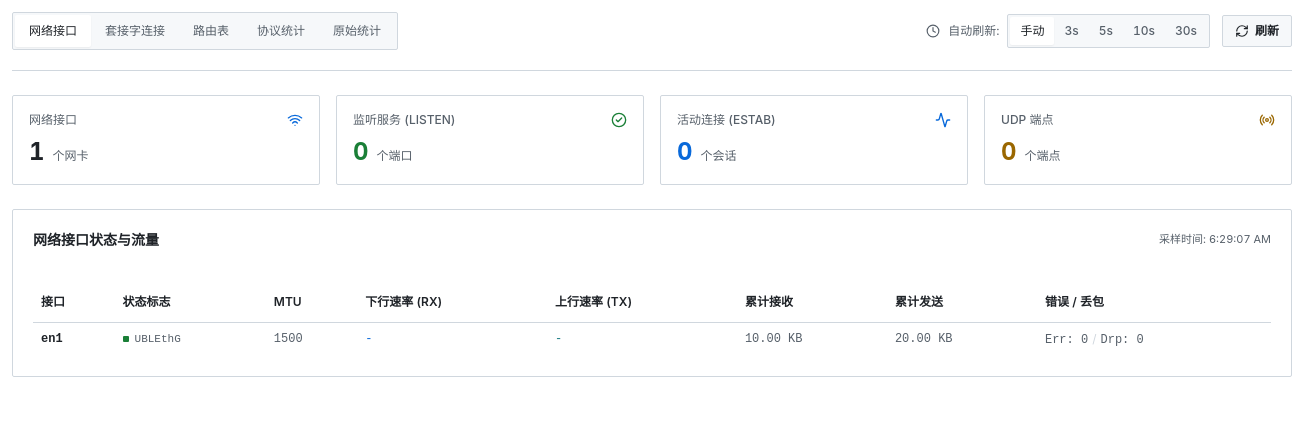
Test case: NetworkView Component › navigates and filters sockets when clicking summary cards
This screenshot has width=1304, height=444.
Click the button "活动连接 (ESTAB) 0 个会话" at (726, 120), box [660,95,968,185]
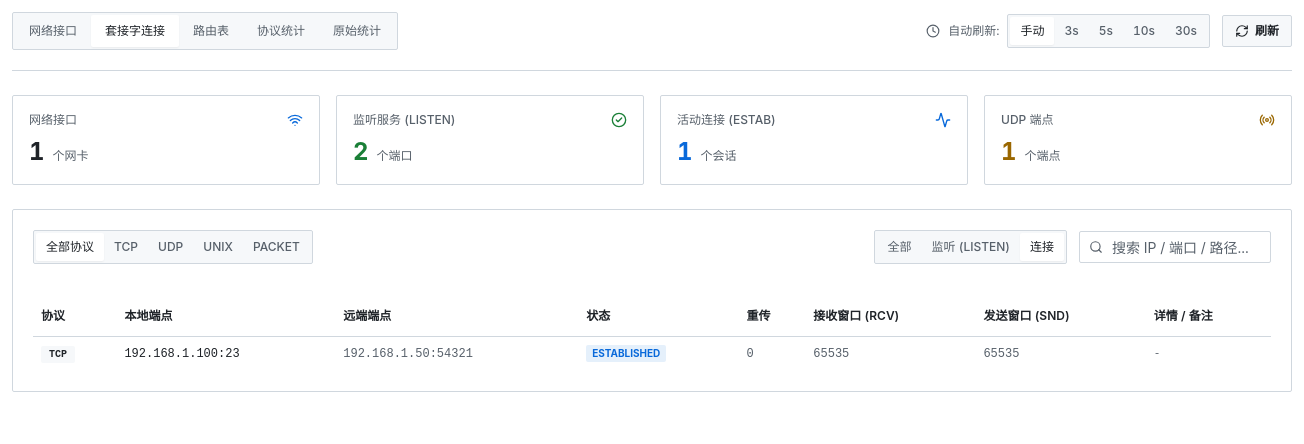
Check: the text "*:23" is not shown
Check: the text "192.168.1.100:23" is shown, box [116,336,335,371]
Click the button "监听服务 (LISTEN) 2 个端口" at (404, 120), box [336,95,644,185]
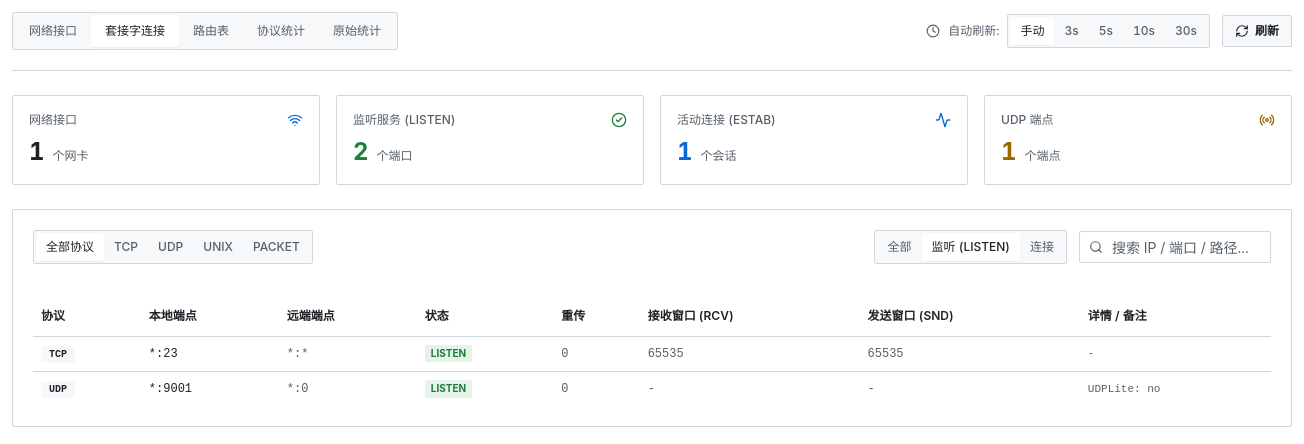
Check: the text "*:23" is shown, box [141,336,279,371]
Check: the text "*:9001" is shown, box [141,371,279,406]
Check: the text "192.168.1.100:23" is gone
Click the button "UDP 端点 1 个端点" at (1027, 120), box [984,95,1292,185]
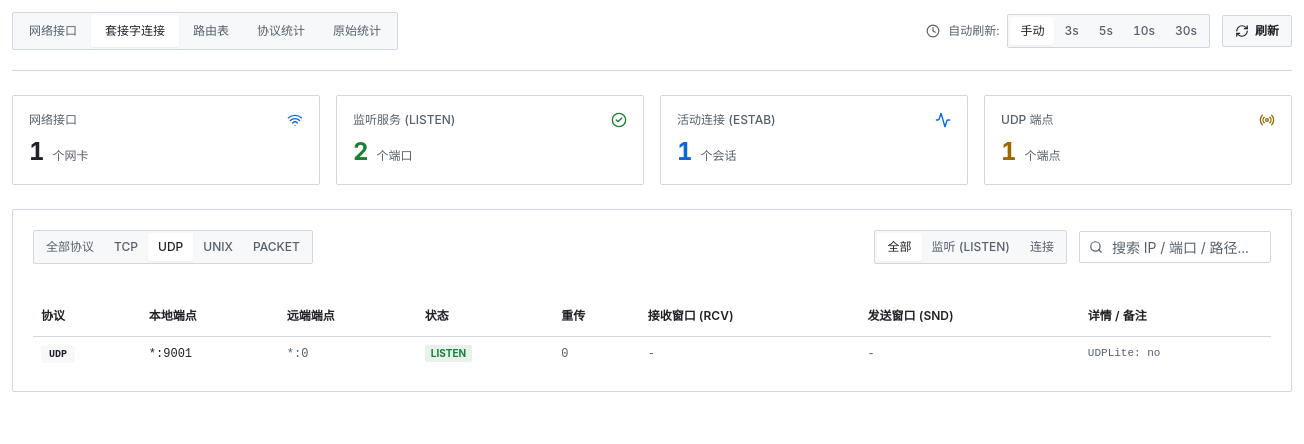
Check: the text "192.168.1.100:23" is not shown
Check: the text "*:9001" is shown, box [141,336,279,371]
Check: the text "*:23" is gone
Click the button "网络接口 1 个网卡" at (53, 120), box [12,95,320,185]
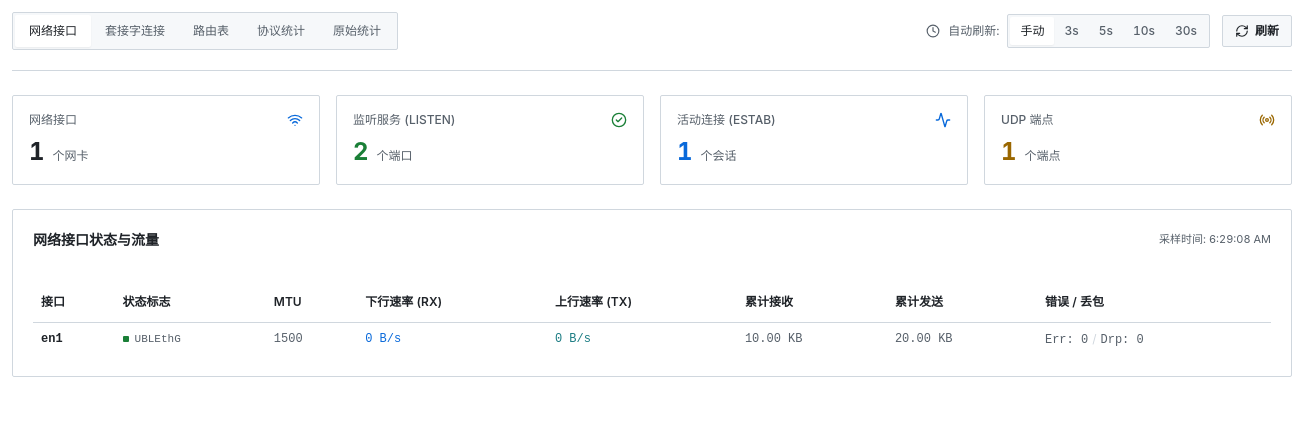
Check: the heading "网络接口状态与流量" is shown, box [33,230,159,250]
